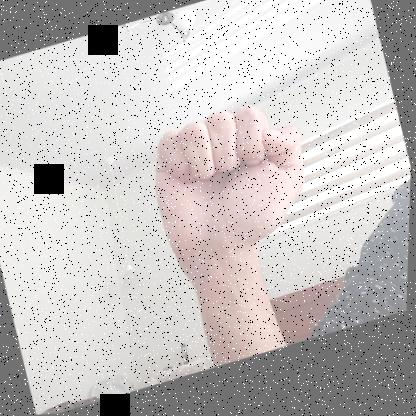A: (133, 90, 328, 271)
